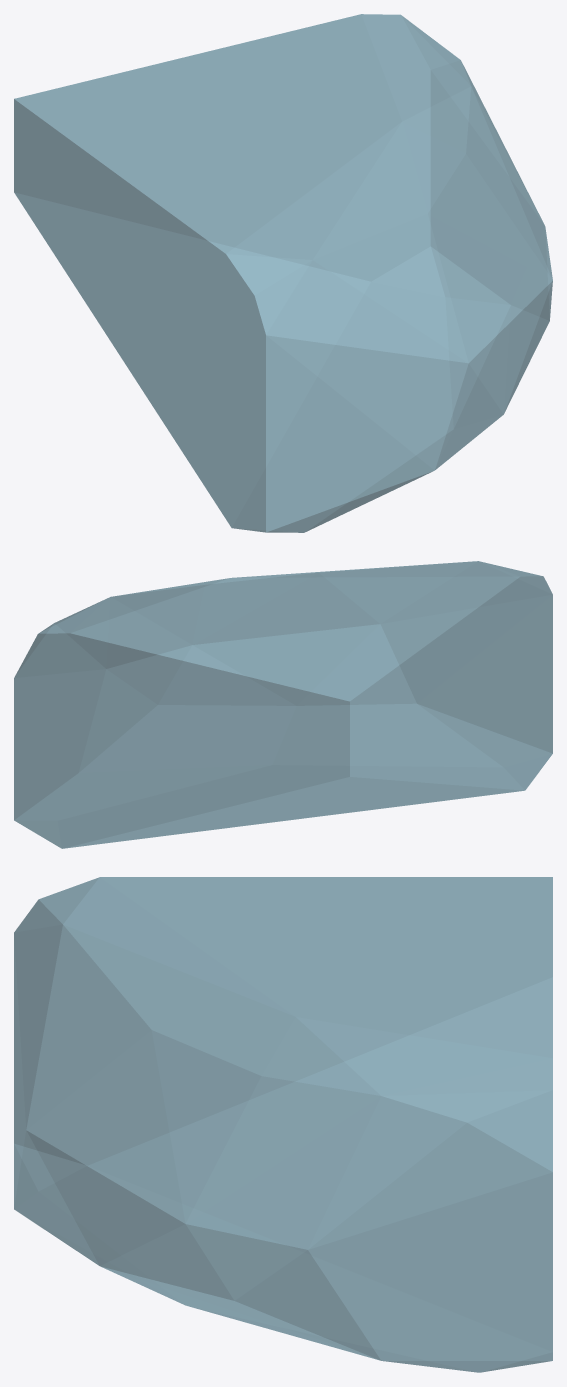
The picture shows the model from 3 angles, top to bottom: view 1: azimuth 30°, elevation 25°; view 2: azimuth 150°, elevation 25°; view 3: azimuth 270°, elevation 25°; orthographic projection. The views are drawn at different scales.
Parts seen in each view (by area): view 1: Shape_IndexedFaceSet.052_Shape_IndexedFaceSet.10687; view 2: Shape_IndexedFaceSet.052_Shape_IndexedFaceSet.10687; view 3: Shape_IndexedFaceSet.052_Shape_IndexedFaceSet.10687.
Boxes of the visible parts, left/top/right/bottom form: Shape_IndexedFaceSet.052_Shape_IndexedFaceSet.10687: left=14, top=14, right=552, bottom=532; Shape_IndexedFaceSet.052_Shape_IndexedFaceSet.10687: left=14, top=561, right=552, bottom=848; Shape_IndexedFaceSet.052_Shape_IndexedFaceSet.10687: left=14, top=877, right=552, bottom=1372.
Size of the model in its own units: 0.1042 by 0.0645 by 0.1092.
